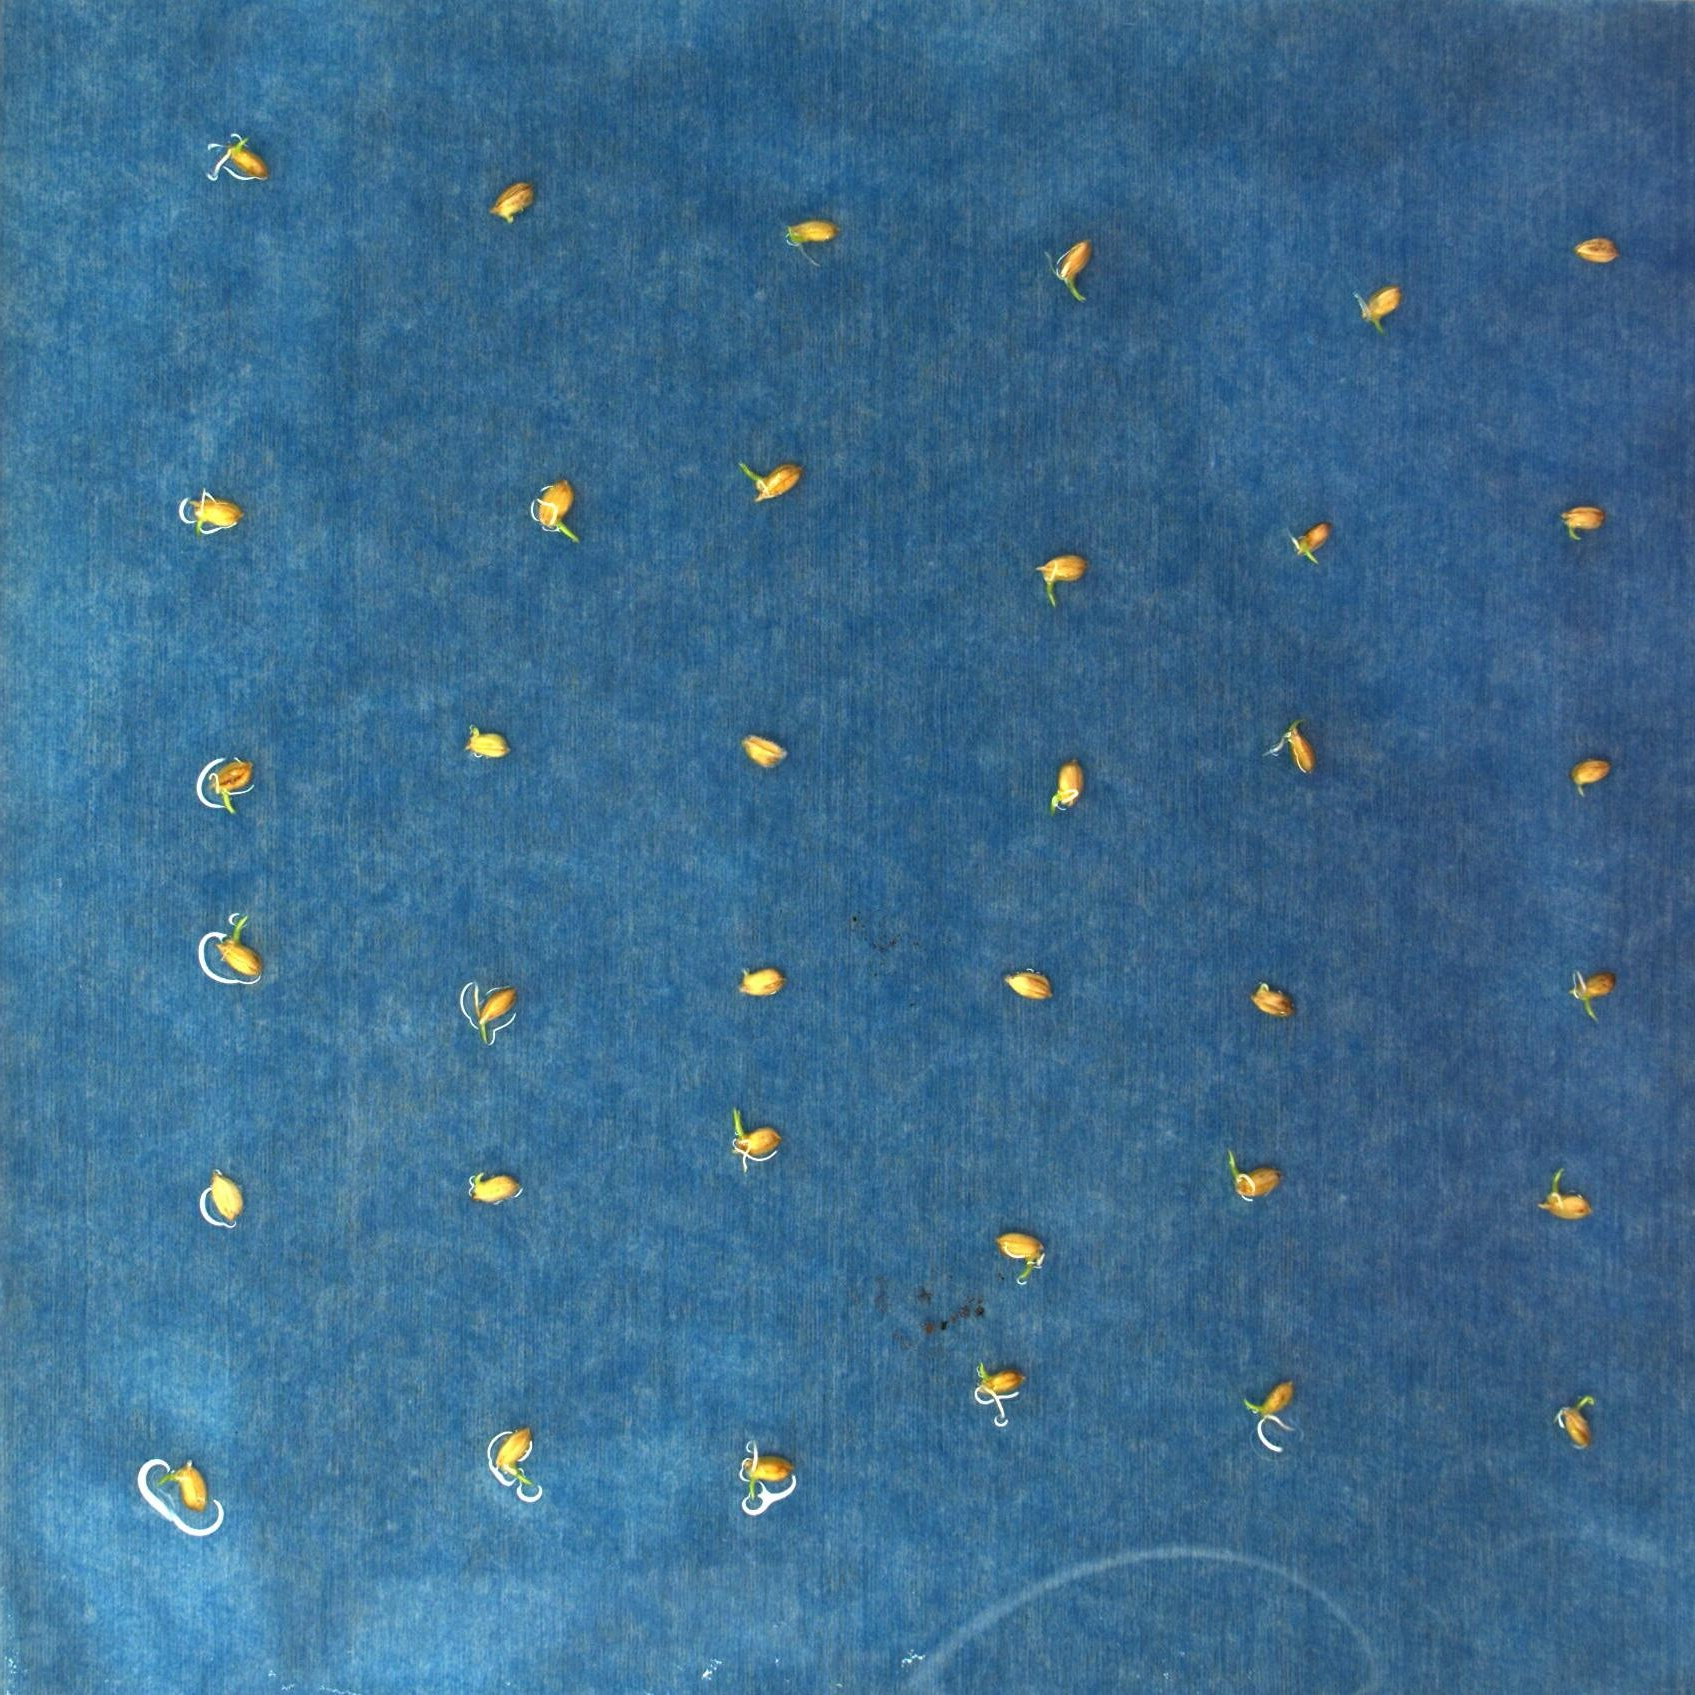not sprout: (202, 127, 275, 188), (730, 1433, 790, 1503), (459, 970, 518, 1042), (969, 1354, 1026, 1426), (149, 1454, 213, 1520), (1240, 1377, 1295, 1451), (487, 1422, 542, 1493), (1218, 1146, 1281, 1208), (1535, 1164, 1596, 1226), (532, 481, 581, 546), (186, 489, 245, 539), (1551, 1391, 1597, 1450), (466, 1164, 518, 1215), (737, 722, 793, 770), (490, 177, 540, 230), (1048, 757, 1090, 820), (1352, 281, 1405, 329), (1003, 958, 1049, 1012), (1268, 722, 1315, 775), (781, 219, 837, 261), (459, 717, 512, 761), (206, 1167, 245, 1226), (1566, 962, 1611, 1012), (1000, 1229, 1043, 1281), (1569, 750, 1611, 795), (737, 958, 781, 1000), (1295, 517, 1330, 567), (1250, 979, 1293, 1020), (1565, 503, 1607, 542), (1579, 231, 1616, 269)
sprout: (213, 905, 269, 981), (726, 1096, 781, 1173), (733, 453, 804, 501), (1049, 237, 1097, 300), (1037, 549, 1087, 608), (206, 761, 258, 812)
